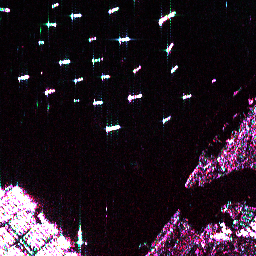ship: (155, 8, 178, 27), (125, 91, 143, 102), (163, 40, 176, 54), (130, 62, 143, 75), (103, 123, 121, 132), (105, 5, 121, 15), (167, 63, 179, 75), (159, 113, 172, 124), (42, 87, 56, 96), (76, 228, 83, 246), (71, 75, 84, 84), (16, 73, 30, 81), (90, 55, 104, 63), (116, 35, 131, 42), (57, 58, 71, 65), (49, 1, 60, 9), (86, 35, 97, 43), (181, 92, 192, 100), (1, 6, 12, 13), (44, 21, 56, 27), (69, 12, 81, 18), (91, 99, 103, 105), (99, 73, 110, 79), (36, 39, 44, 44), (71, 97, 79, 102)
